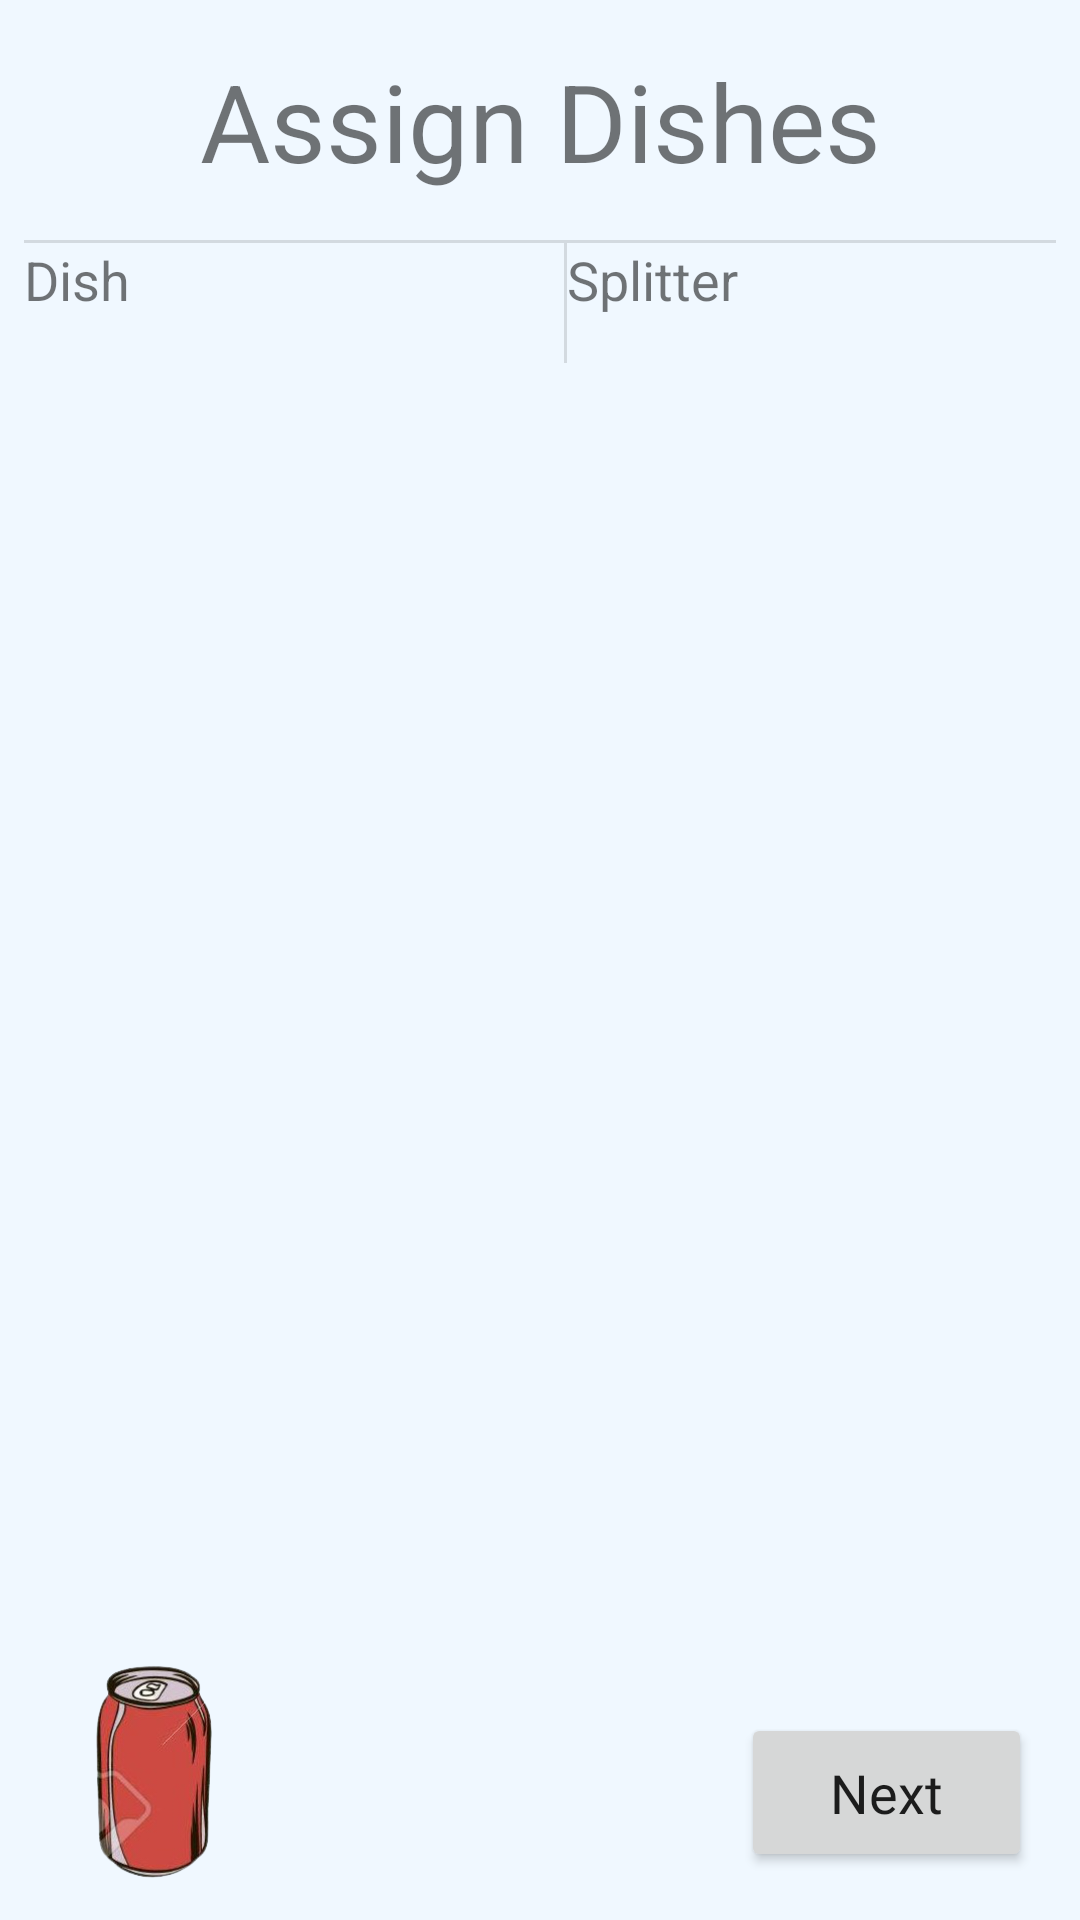

Locate icon controls on the screen. Image size 1080px×1920px, boxes as [left=x1, top=y1, right=x2, bottom=y2].
food6: [left=96, top=1666, right=212, bottom=1878]
